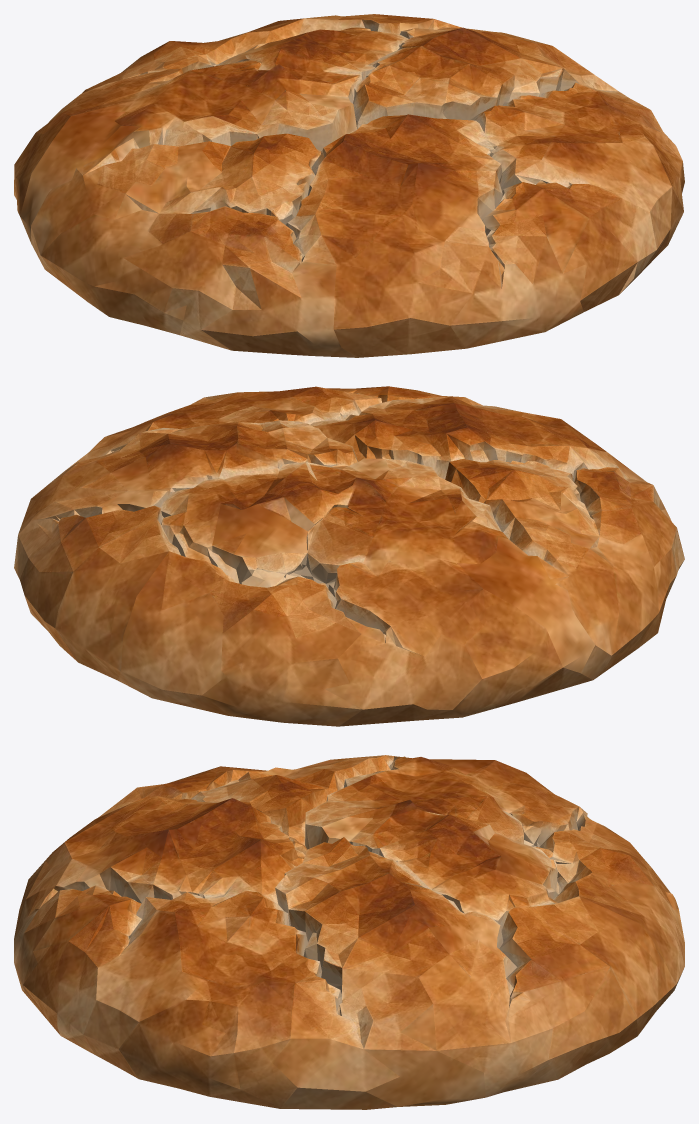
Rendered from barley-loaf.glb.
3 views of the same model, one above another, from view 1: azimuth 30°, elevation 25°; view 2: azimuth 150°, elevation 25°; view 3: azimuth 270°, elevation 25° (orthographic). The views are drawn at different scales.
Bounding box in the file's own units: 1.9 × 0.4778 × 1.87.
1 material, 1 textured.
